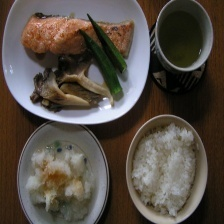rice: (131, 125, 196, 220)
